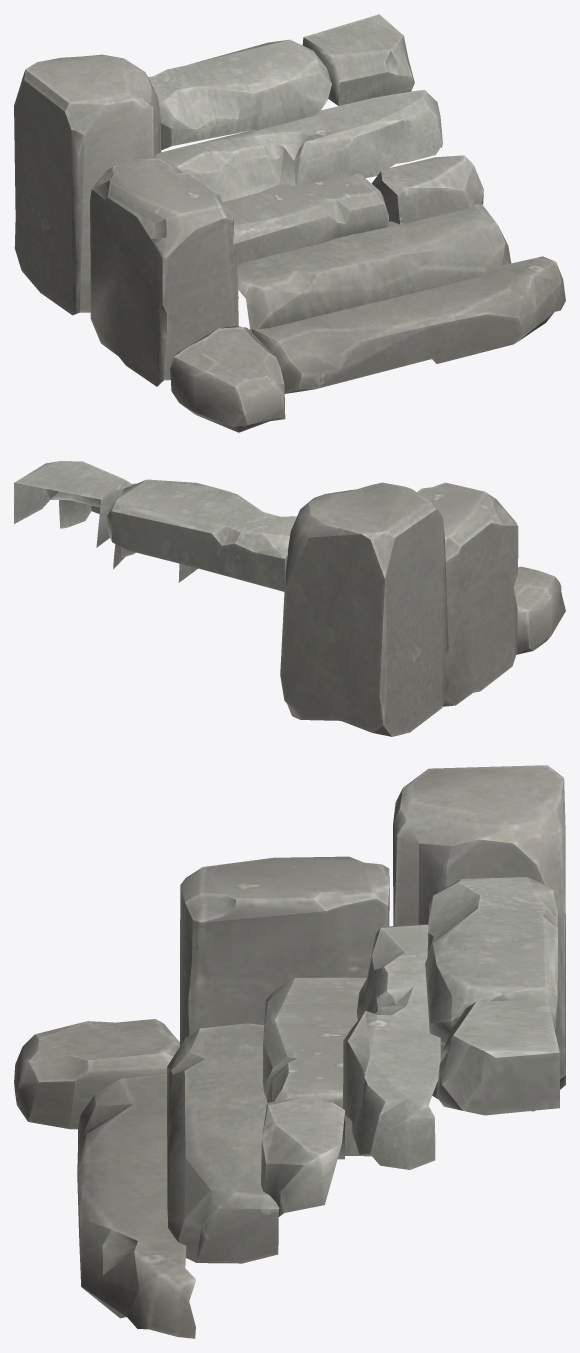
Rendered from ramp_wall_left_000a.fbx.
The picture shows the model from 3 angles, top to bottom: view 1: azimuth 30°, elevation 25°; view 2: azimuth 150°, elevation 25°; view 3: azimuth 270°, elevation 25°; orthographic projection. The views are drawn at different scales.
Visible parts, largest first — view 1: ramp_wall_left_000a; view 2: ramp_wall_left_000a; view 3: ramp_wall_left_000a.
Part boxes in pixels (bbox=[...]): ramp_wall_left_000a: bbox=[14, 14, 565, 432]; ramp_wall_left_000a: bbox=[14, 461, 565, 736]; ramp_wall_left_000a: bbox=[14, 765, 565, 1338].
Bounding box in the file's own units: 29413 × 15981 × 25704.
